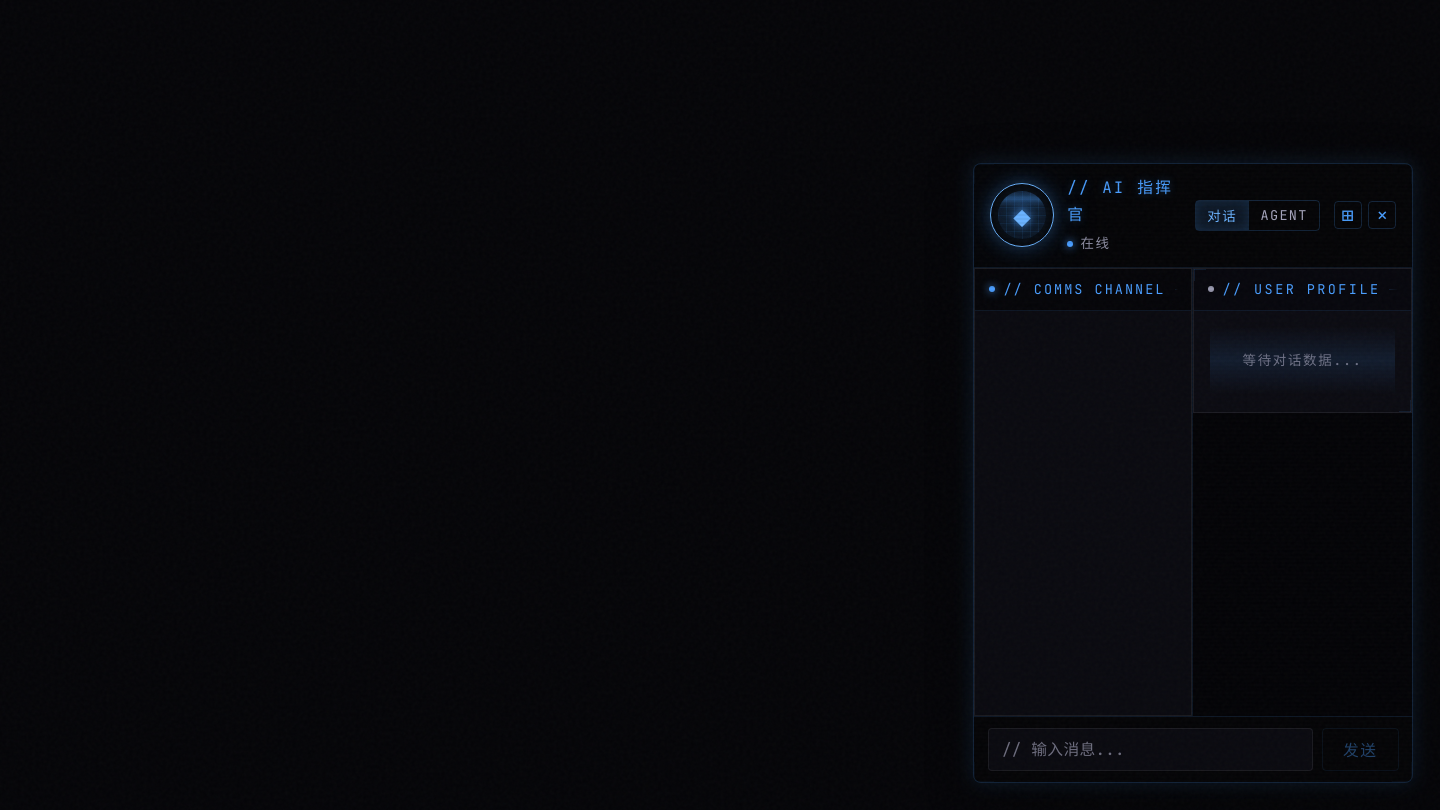
RecruiterTerminal 组件 › Agent 模式（MCP 工具调用） › AGENT 模式错误显示 agent 错误
Click the tab with class "mode-switch__btn" showing "AGENT".
click(1284, 215)  # box [1248,201,1319,230]
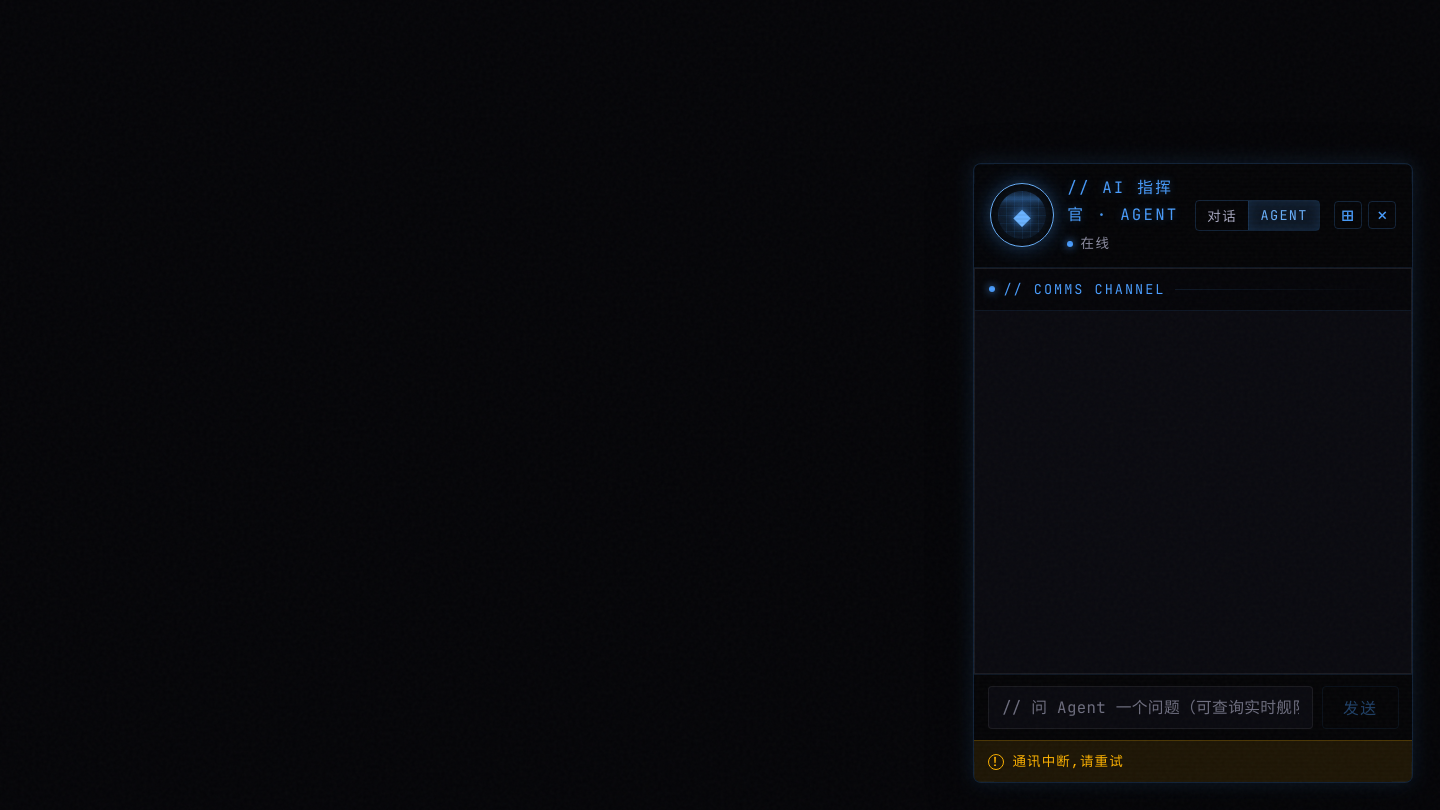
Now the text with class "error-bar__text" reads "通讯中断,请重试", box [1012,752,1124,770]
